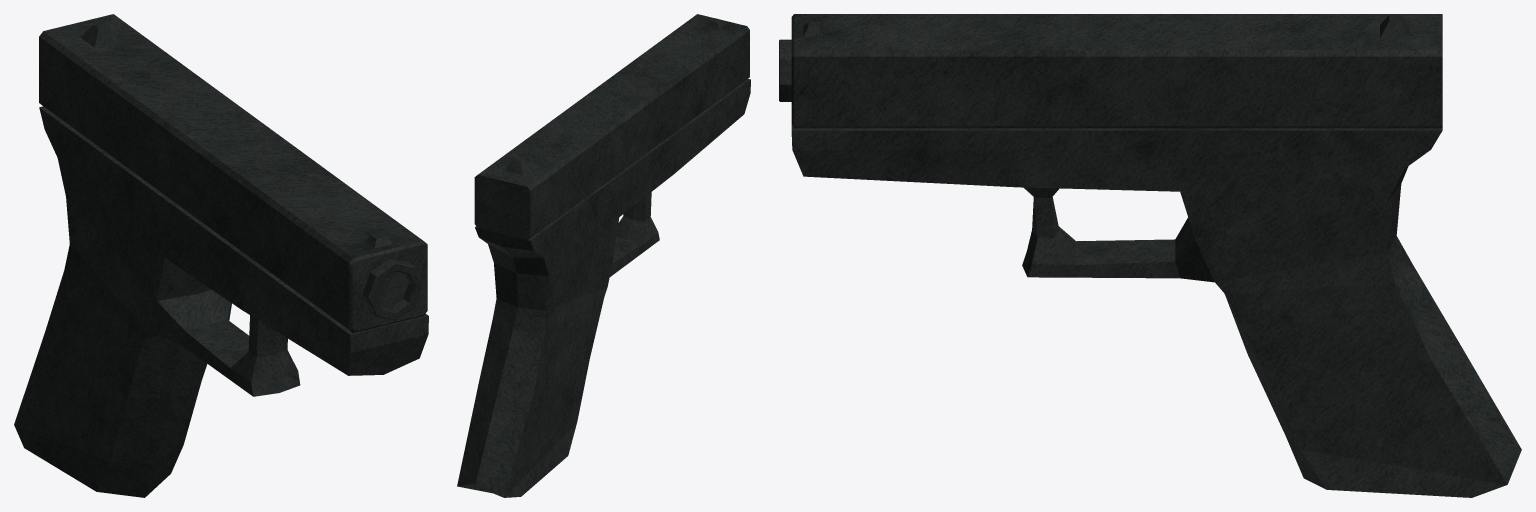
The model's file is glock.glb.
The picture shows the model from 3 angles, left to right: view 1: azimuth 30°, elevation 25°; view 2: azimuth 150°, elevation 25°; view 3: azimuth 270°, elevation 25°; orthographic projection. The views are drawn at different scales.
Visible parts, largest first — view 1: Base; view 2: Base; view 3: Base.
Boxes of the visible parts, x1,y1,x2,y2 form: Base: (14, 14, 428, 497); Base: (457, 14, 750, 497); Base: (779, 14, 1521, 497).
Bounding box in the file's own units: 0.0242 × 0.128 × 0.185.
1 material, 1 textured.
